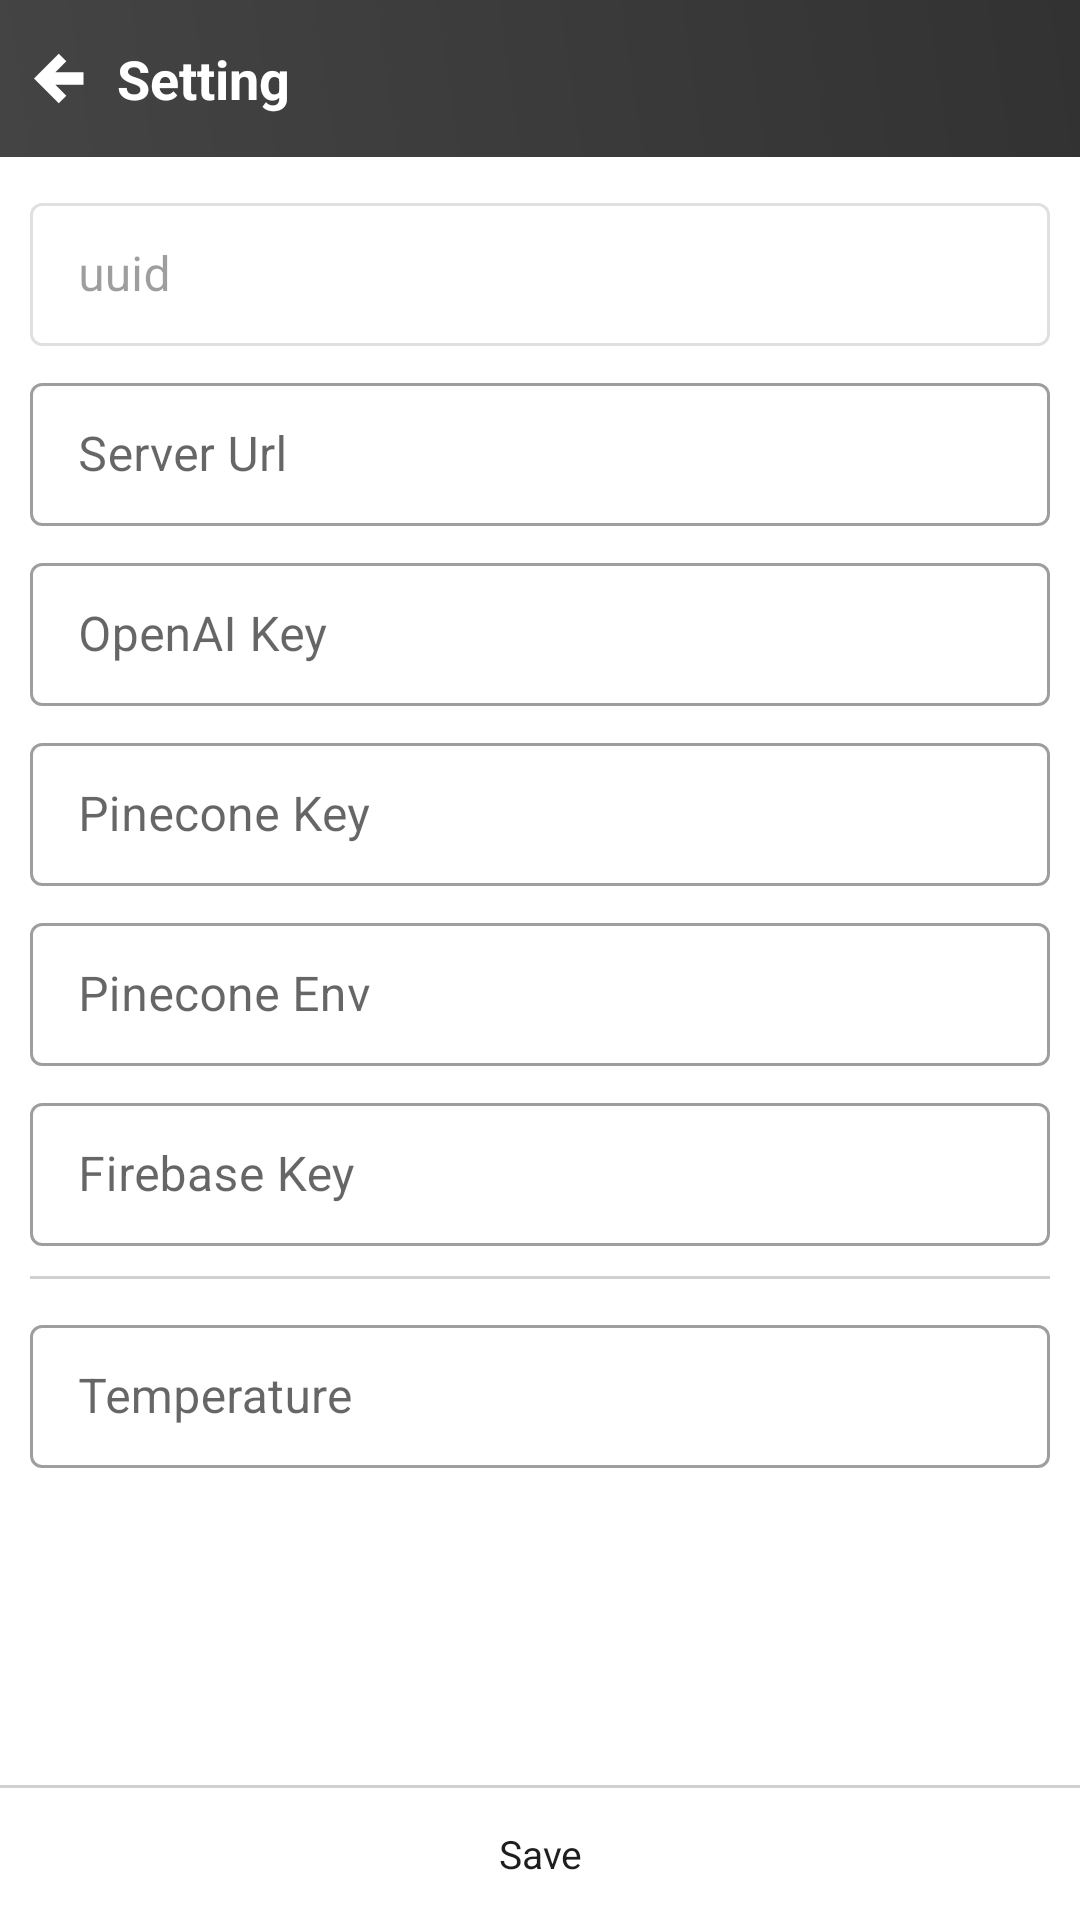

Where to tap for icons on this 1080px×1920px app screen, as point (x, y):
arrow left thick: point (59, 78)
